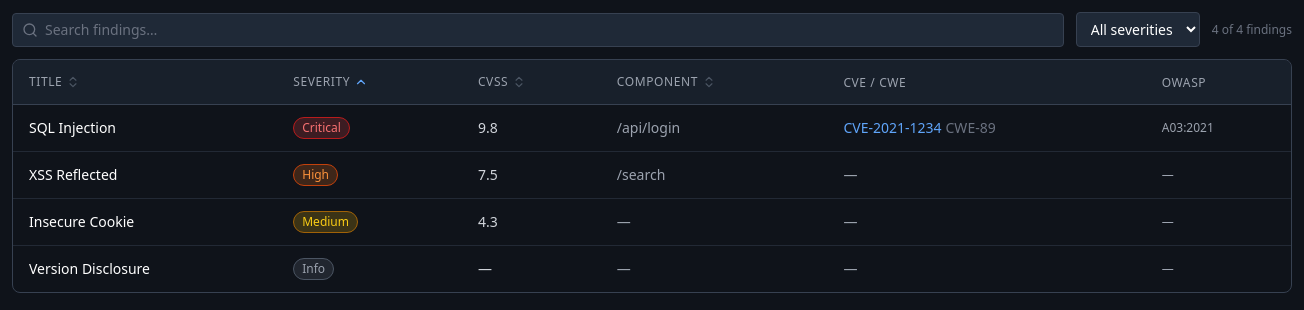
Scenario: FindingsTable › shows no findings message when none match
Type "zzz-nonexistent" into the search field labelled "Search findings".
click(538, 30); type("zzz-nonexistent")  # box [12,12,1064,46]
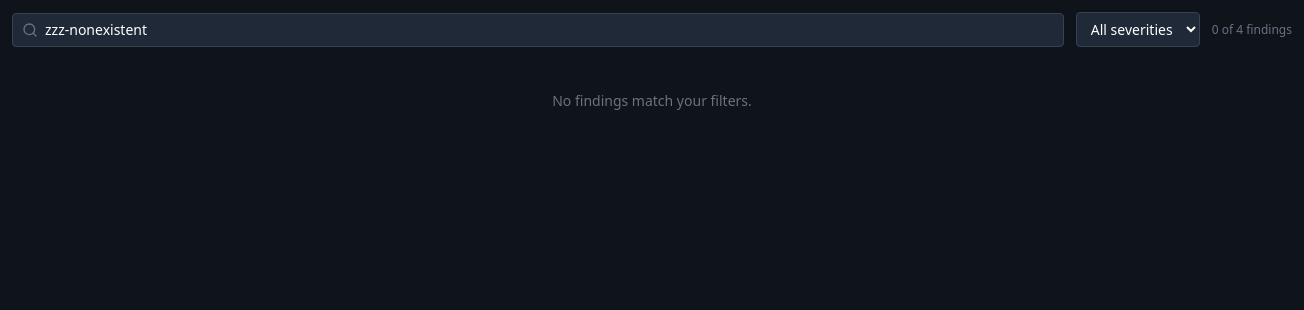
Check: the text "No findings match your filters." is shown, box [552,91,752,110]
